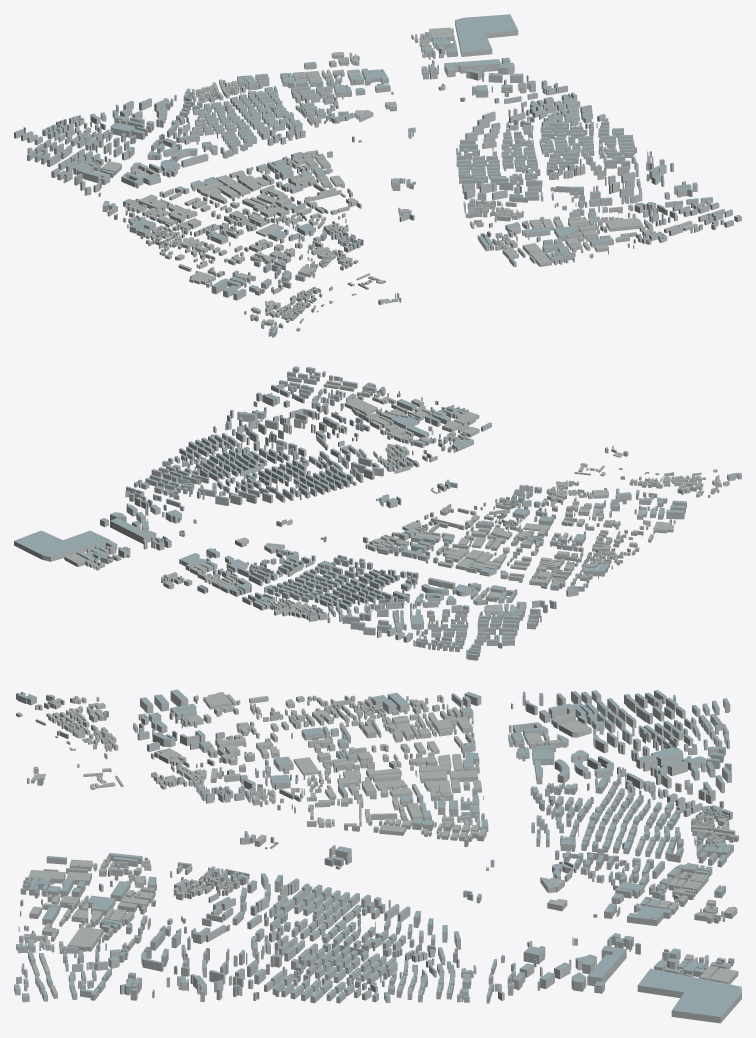
Rendered from far.glb.
3 renders of one model, top to bottom at view 1: azimuth 30°, elevation 25°; view 2: azimuth 150°, elevation 25°; view 3: azimuth 270°, elevation 25°, orthographic. The views are drawn at different scales.
Bounding box in the file's own units: 2270 × 38.94 × 2129.
